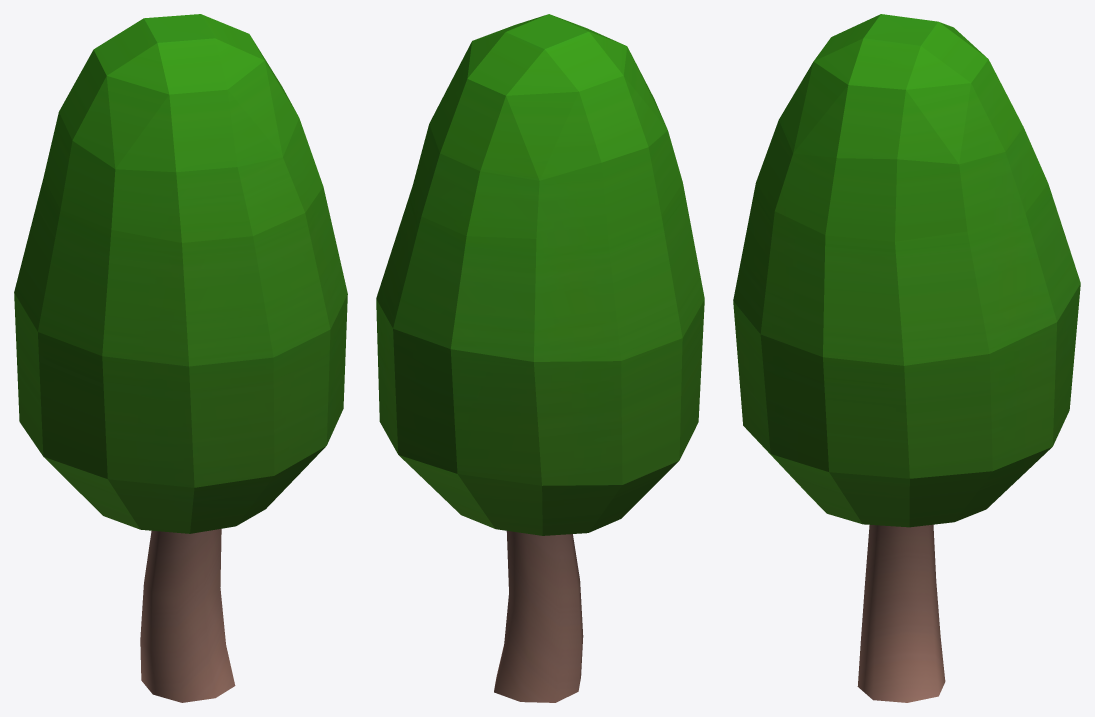
Rendered from SM_Exterior_Seto_03.fbx.
3 views of the same model, side by side, from view 1: azimuth 30°, elevation 25°; view 2: azimuth 150°, elevation 25°; view 3: azimuth 270°, elevation 25° (orthographic).
Parts seen in each view (by area): view 1: SM_Exterior_Seto3; view 2: SM_Exterior_Seto3; view 3: SM_Exterior_Seto3.
Boxes of the visible parts, box(x1,y1,x2,y2) form: SM_Exterior_Seto3: box(14, 14, 347, 702); SM_Exterior_Seto3: box(376, 14, 704, 702); SM_Exterior_Seto3: box(733, 14, 1080, 702).
Size of the model in its own units: 191 by 422 by 204.
